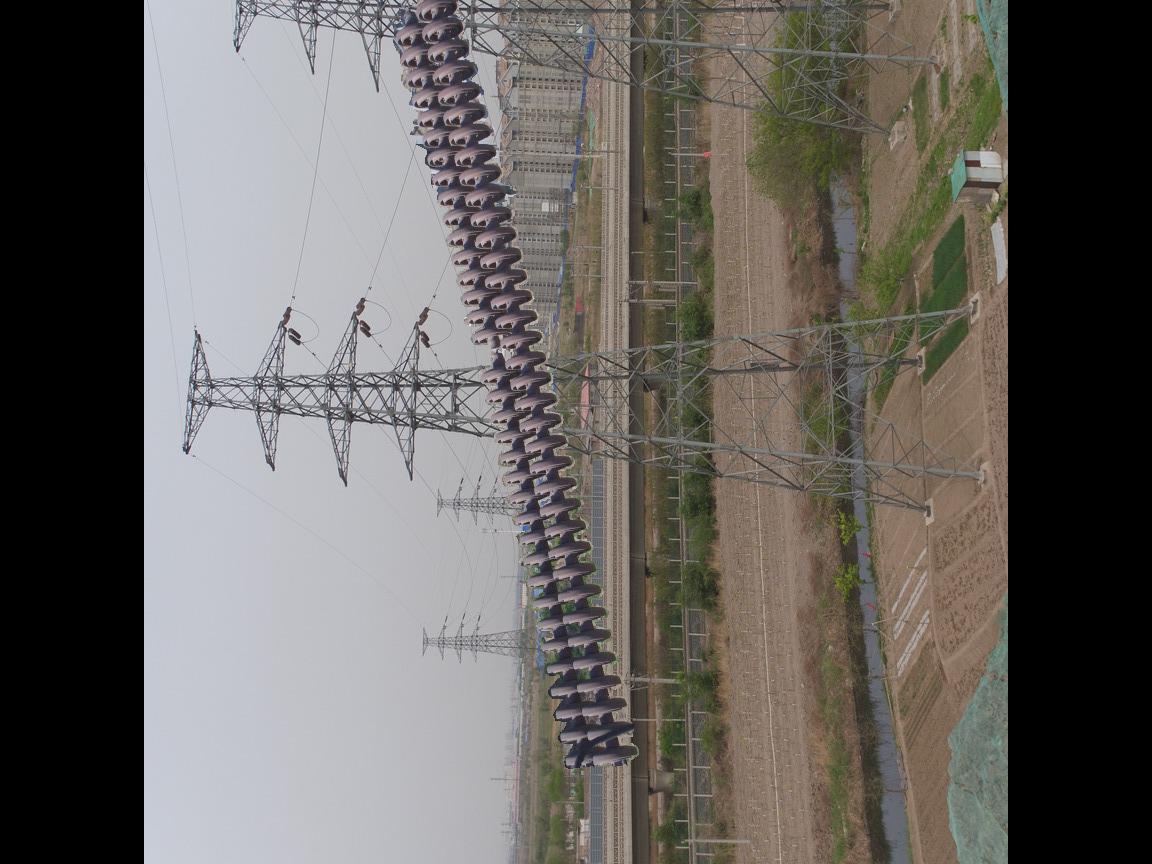insulator: (390, 1, 643, 777)
insulator_stringdrop: (467, 323, 517, 389)
